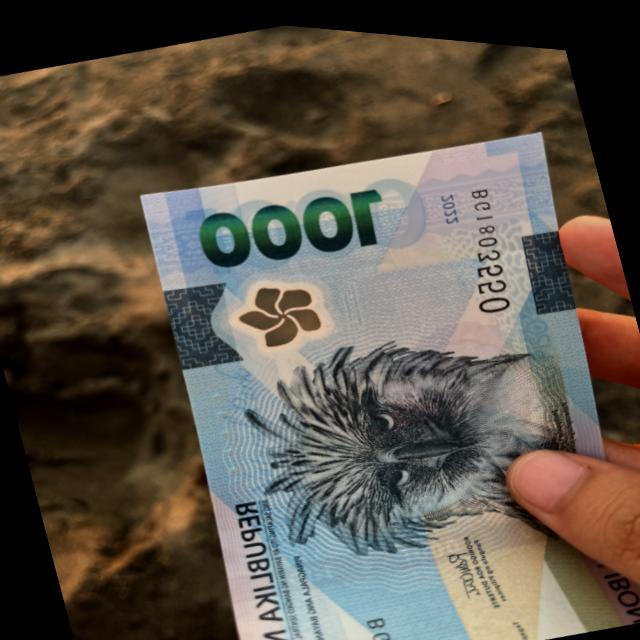eagle: (226, 268, 604, 591)
sampaguita: (211, 237, 350, 363)
